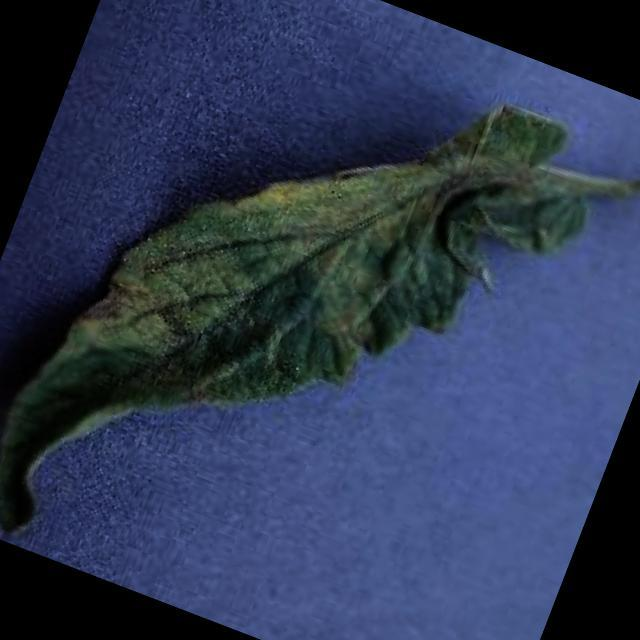Tomato mold leaf: (0, 0, 614, 640)
